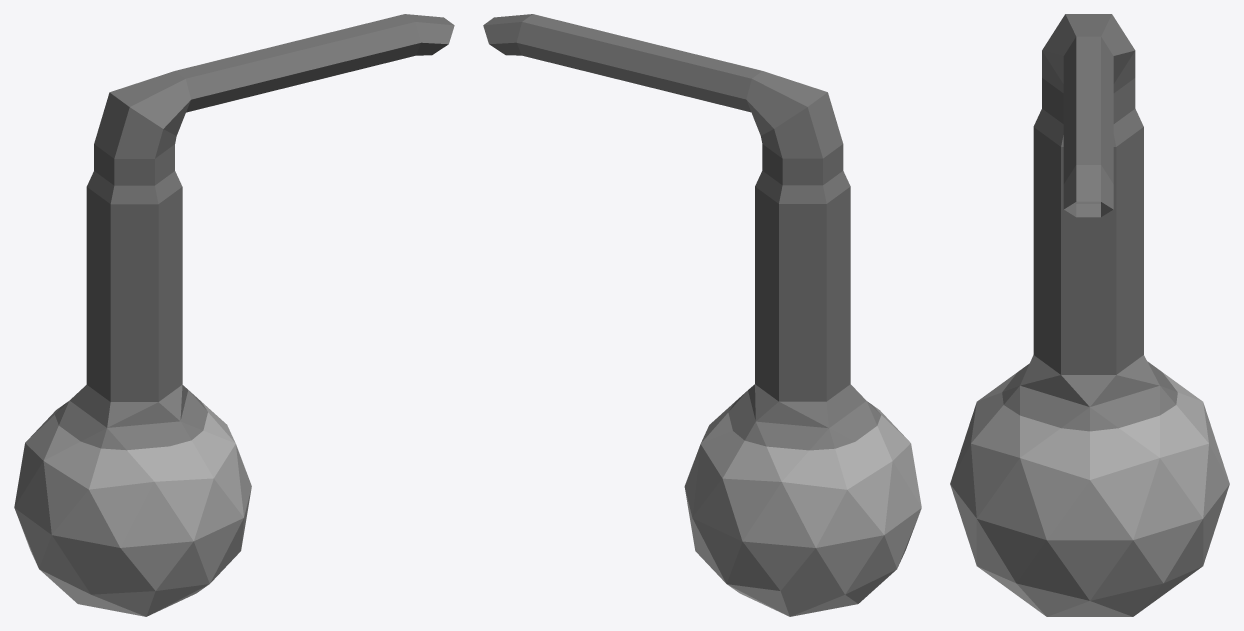
File: alchemist_aparatus_749x03.gltf
The picture shows the model from 3 angles, left to right: view 1: azimuth 30°, elevation 25°; view 2: azimuth 150°, elevation 25°; view 3: azimuth 270°, elevation 25°; orthographic projection. The views are drawn at different scales.
Parts seen in each view (by area): view 1: alchemist_aparatus_749x03; view 2: alchemist_aparatus_749x03; view 3: alchemist_aparatus_749x03.
Part boxes in pixels (x1,y1,x2,y2): alchemist_aparatus_749x03: (14, 14, 454, 616); alchemist_aparatus_749x03: (483, 14, 921, 616); alchemist_aparatus_749x03: (950, 14, 1229, 616).
Size of the model in its own units: 1.03 by 1.24 by 0.5225.
2 materials, 2 textured.
